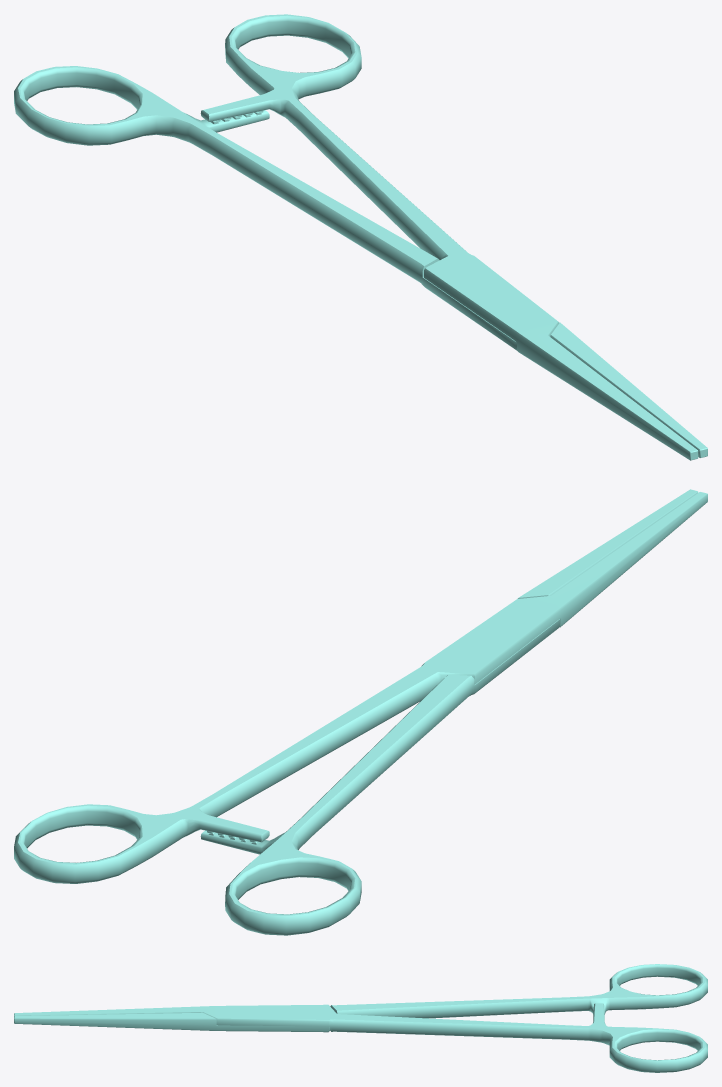
File: Hemostatic_forceps.fbx
3 renders of one model, top to bottom at view 1: azimuth 30°, elevation 25°; view 2: azimuth 150°, elevation 25°; view 3: azimuth 270°, elevation 25°, orthographic. The views are drawn at different scales.
Visible parts, largest first — view 1: hemostatic_forceps; view 2: hemostatic_forceps; view 3: hemostatic_forceps.
Part boxes in pixels (x1,y1,x2,y2): hemostatic_forceps: (14, 14, 707, 460); hemostatic_forceps: (14, 489, 707, 935); hemostatic_forceps: (14, 964, 707, 1072).
Size of the model in its own units: 0.0927 by 0.00536 by 0.2747.
